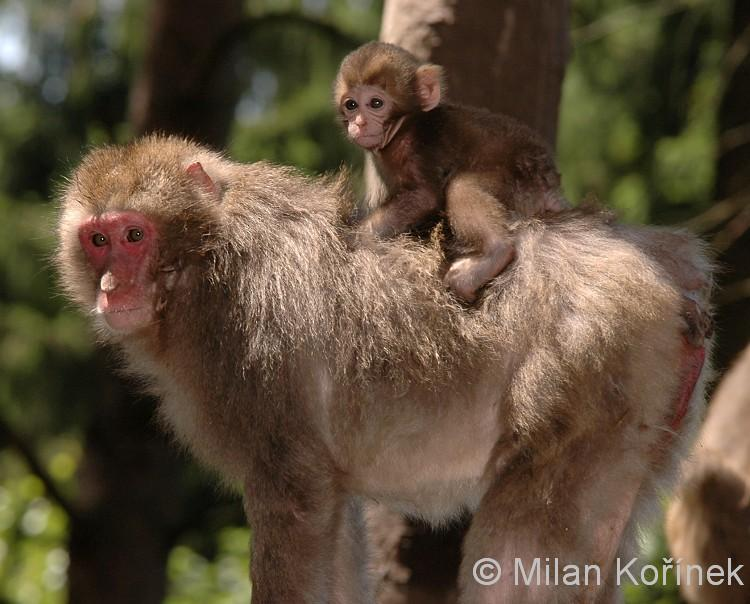monkey: (51, 135, 720, 604)
